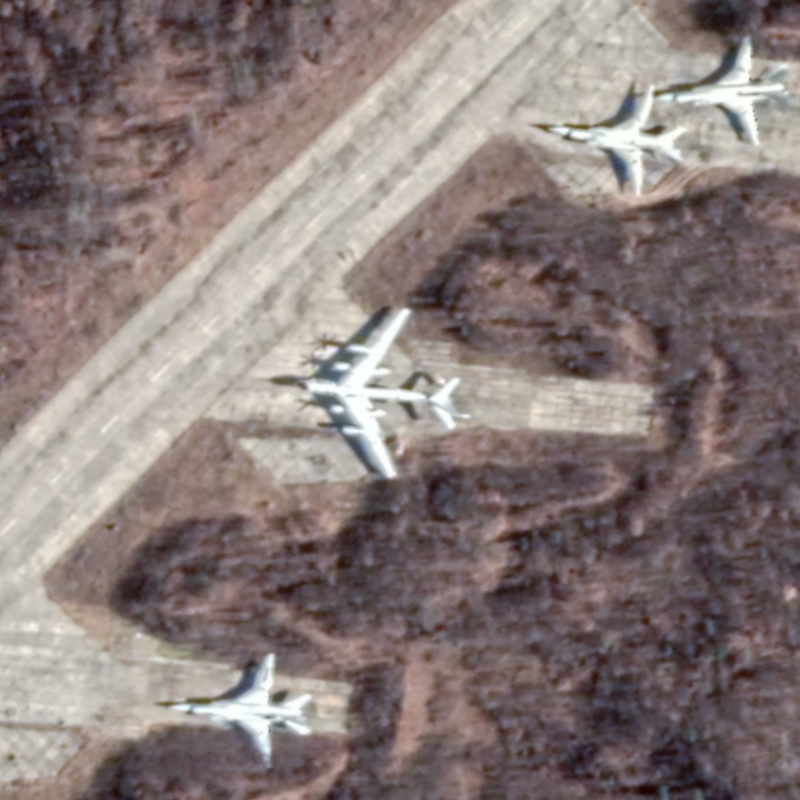A12: (158, 649, 315, 769), (542, 82, 691, 201), (648, 32, 787, 149)
A17: (288, 301, 475, 482)
